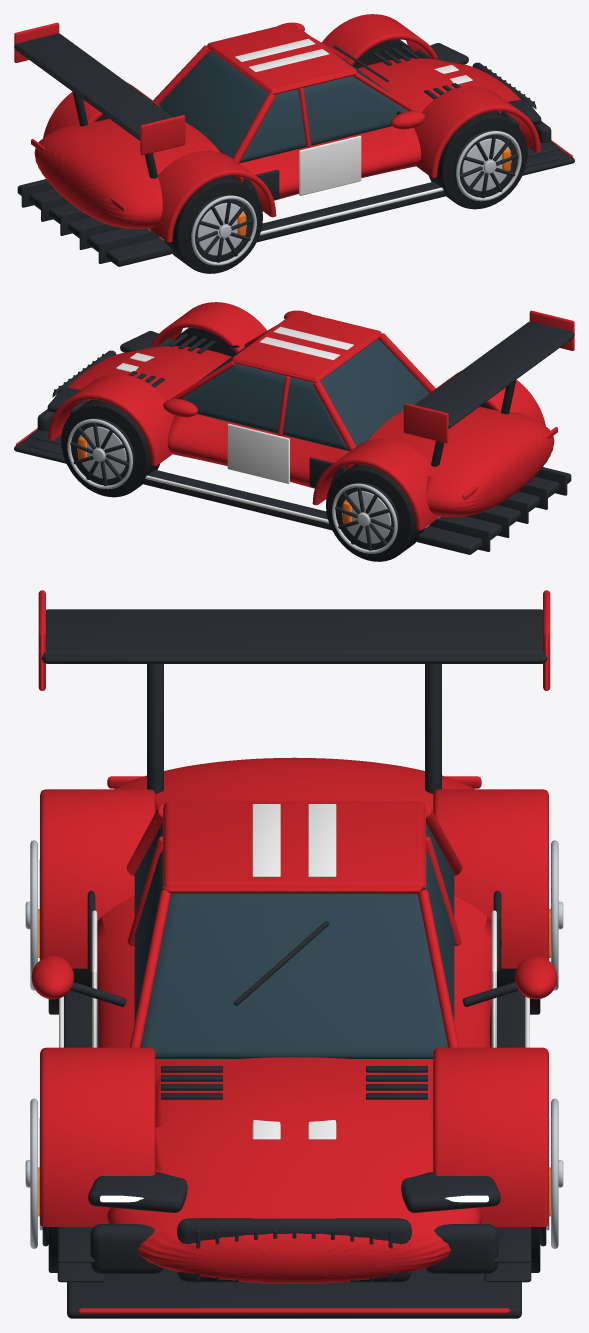
Rendered from red.glb.
The picture shows the model from 3 angles, top to bottom: view 1: azimuth 30°, elevation 25°; view 2: azimuth 150°, elevation 25°; view 3: azimuth 270°, elevation 25°; orthographic projection. The views are drawn at different scales.
Visible parts, largest first — view 1: red paint, Carbon aero, Smoked glazing, Slick tire rubber, Livery white, Forged alloy; view 2: red paint, Carbon aero, Smoked glazing, Slick tire rubber, Livery white, Forged alloy; view 3: red paint, Carbon aero, Smoked glazing, Livery white, Forged alloy, Slick tire rubber.
Boxes of the visible parts, box(x1,y1,x2,y2) form: red paint: box(14, 14, 573, 242); Carbon aero: box(14, 33, 574, 266); Smoked glazing: box(159, 51, 408, 162); Slick tire rubber: box(96, 39, 527, 273); Livery white: box(235, 38, 472, 235); Forged alloy: box(191, 131, 521, 265); red paint: box(15, 302, 574, 530); Carbon aero: box(14, 321, 574, 554); Smoked glazing: box(180, 339, 429, 450); Slick tire rubber: box(61, 327, 492, 561); Livery white: box(116, 326, 353, 523); Forged alloy: box(67, 419, 397, 553); red paint: box(31, 590, 557, 1313); Carbon aero: box(41, 609, 547, 1318); Smoked glazing: box(134, 823, 454, 1058); Livery white: box(59, 804, 529, 1139); Forged alloy: box(25, 840, 563, 1248); Slick tire rubber: box(48, 968, 540, 1272).
Size of the model in its own units: 4.96 by 1.74 by 2.52.
